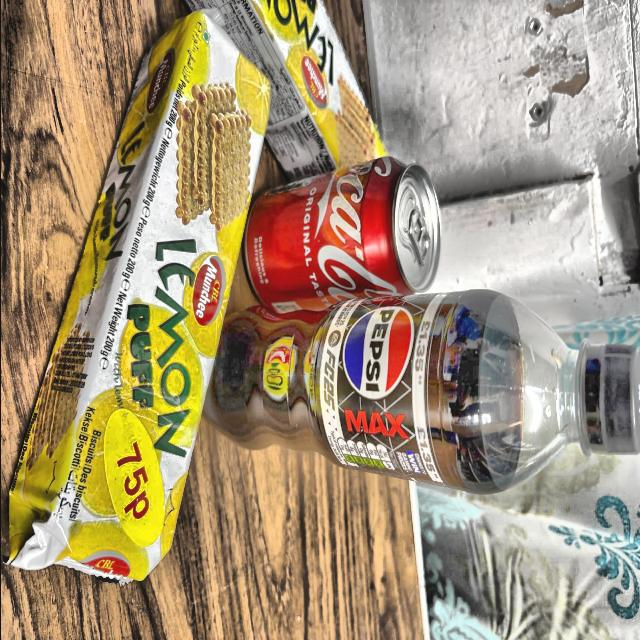coke-can: (222, 166, 434, 312)
lemon puff: (2, 15, 280, 598), (188, 5, 388, 179)
pepsi-bottle: (192, 282, 640, 512)
